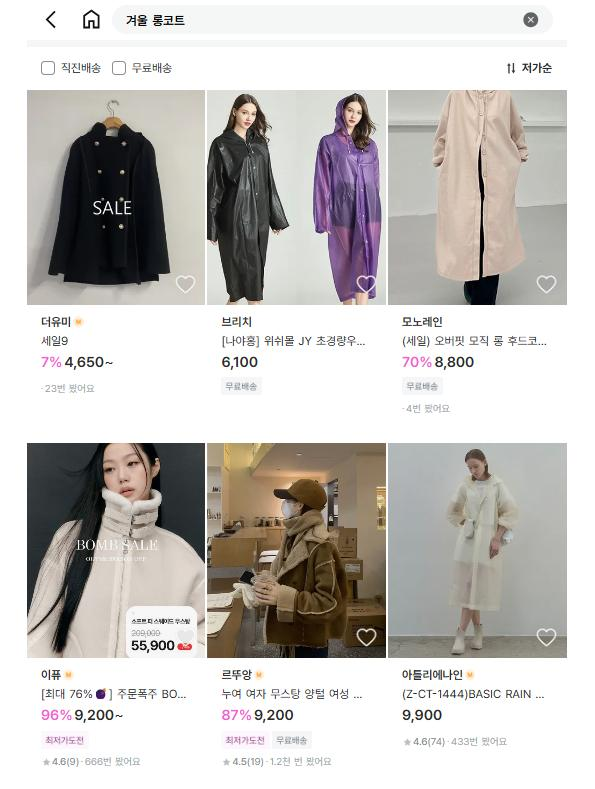button: (504, 49, 563, 85), (73, 5, 112, 41), (33, 0, 63, 36), (530, 269, 562, 299), (350, 622, 380, 653), (532, 624, 562, 655), (353, 272, 382, 299), (174, 272, 199, 299), (171, 626, 196, 651), (520, 9, 545, 29)
checkbox: (109, 50, 176, 87), (35, 50, 104, 85)
input_field: (123, 0, 558, 37)
